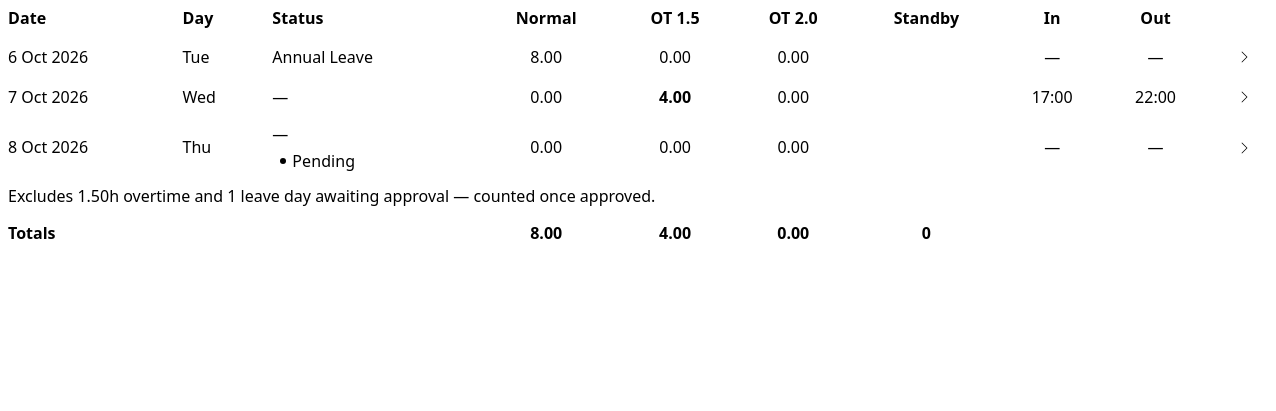
QuickView › shows pending items in warning semantics without counting them
Expected: the text "Pending" is shown, [292,151,355,171]
Expected: the text "Excludes 1.50h overtime and 1 leave day awaiting approval — counted once approved." is shown, [8,185,655,207]
Click the button named "breakdown for": {"x": 1244, "y": 148} [1228,132,1260,164]
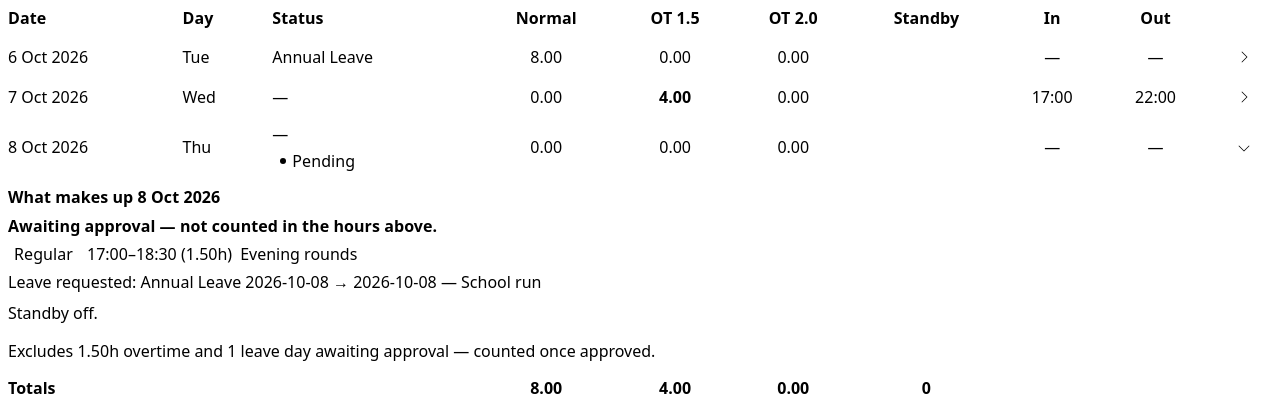
Expected: the text "Awaiting approval — not counted in the hours above." is shown, [8,215,437,237]
Expected: the text "Evening rounds" is shown, [240,243,357,265]
Expected: the text "Leave requested: Annual Leave" is shown, [8,271,541,293]
